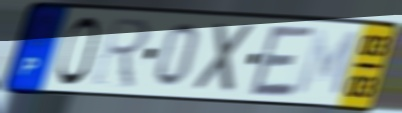0: (151, 21, 204, 91), (54, 14, 103, 88)
E: (246, 23, 319, 100)
M: (292, 27, 362, 100)
R: (90, 15, 154, 91)
X: (191, 20, 260, 96)
